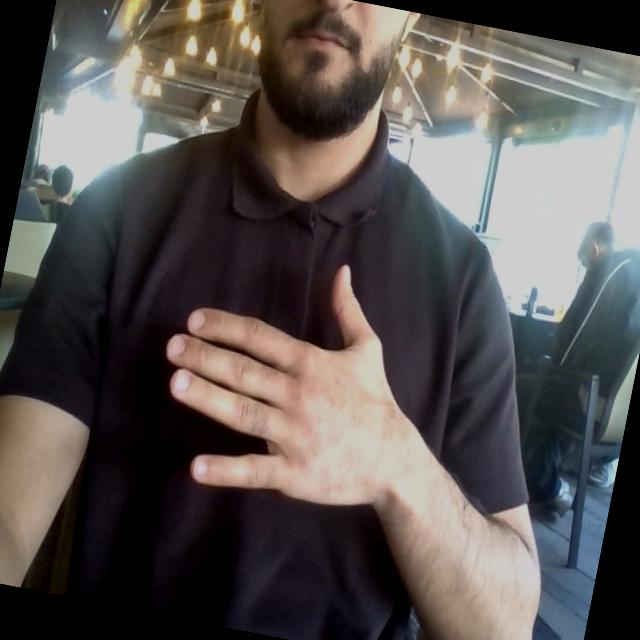Hand: (167, 267, 419, 505)
